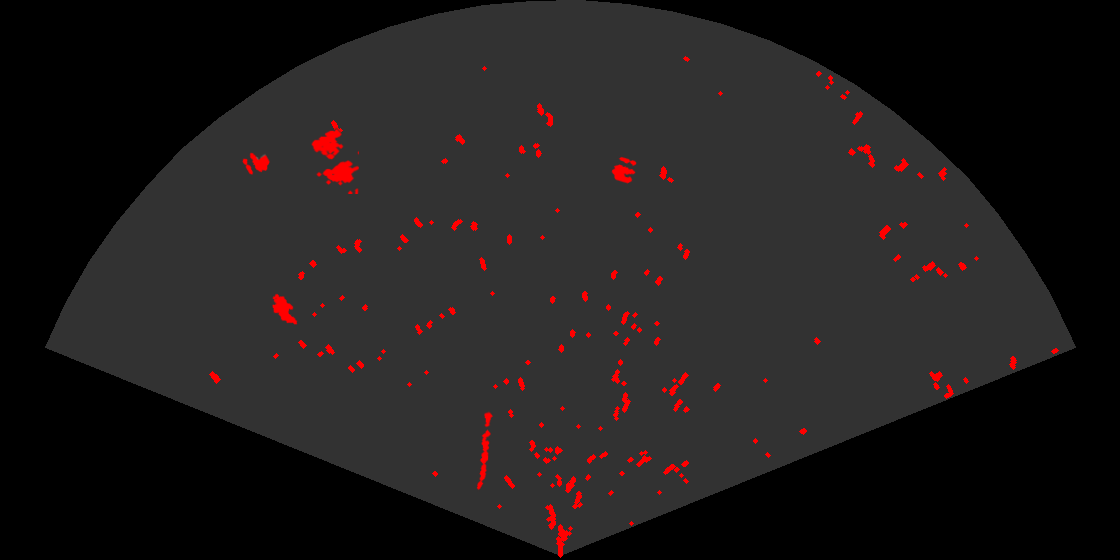AUV: (271, 292, 299, 326)
ball: (610, 155, 638, 185), (241, 151, 271, 176)
cage: (310, 127, 359, 194)
chain: (475, 411, 495, 492)
